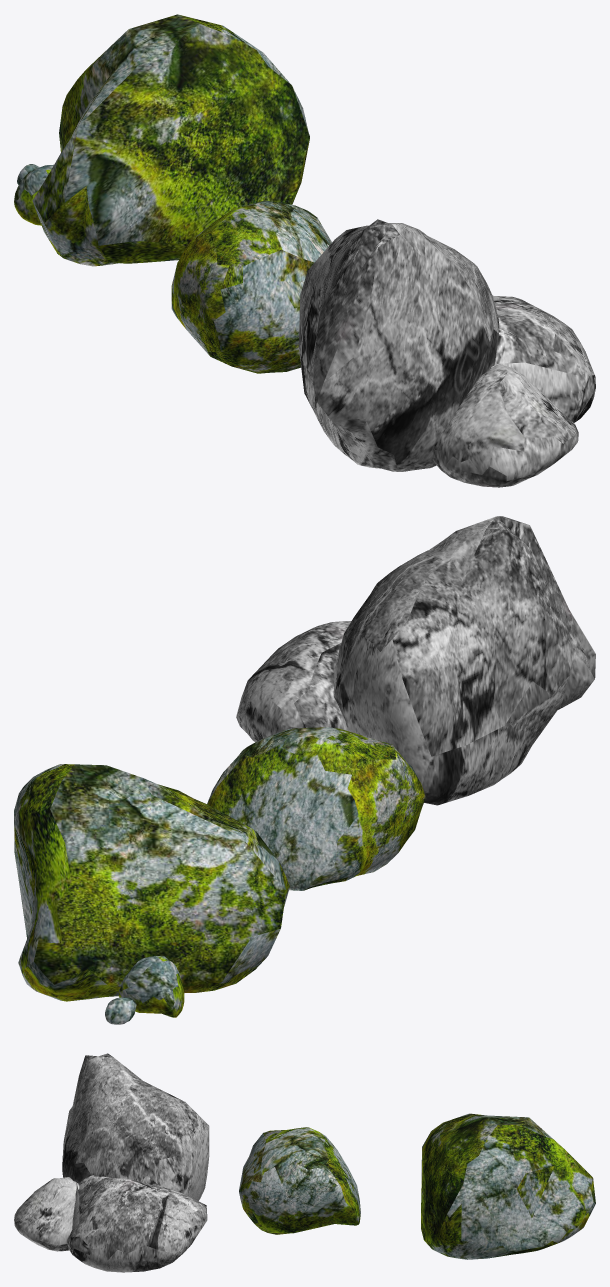
The model's file is Rocks.fbx.
The picture shows the model from 3 angles, top to bottom: view 1: azimuth 30°, elevation 25°; view 2: azimuth 150°, elevation 25°; view 3: azimuth 270°, elevation 25°; orthographic projection. The views are drawn at different scales.
Parts seen in each view (by area): view 1: Icosphere.001, Icosphere.002, Icosphere; view 2: Icosphere.001, Icosphere.002, Icosphere; view 3: Icosphere.001, Icosphere.002, Icosphere.
Part boxes in pixels (left/top/right/bottom): Icosphere.001: left=298, top=219, right=595, bottom=487; Icosphere.002: left=14, top=14, right=309, bottom=266; Icosphere: left=171, top=200, right=331, bottom=373; Icosphere.001: left=236, top=516, right=595, bottom=805; Icosphere.002: left=14, top=764, right=289, bottom=1024; Icosphere: left=207, top=727, right=425, bottom=890; Icosphere.001: left=14, top=1053, right=209, bottom=1272; Icosphere.002: left=421, top=1113, right=595, bottom=1259; Icosphere: left=239, top=1127, right=360, bottom=1234.
Size of the model in its own units: 395 by 316 by 1033.
